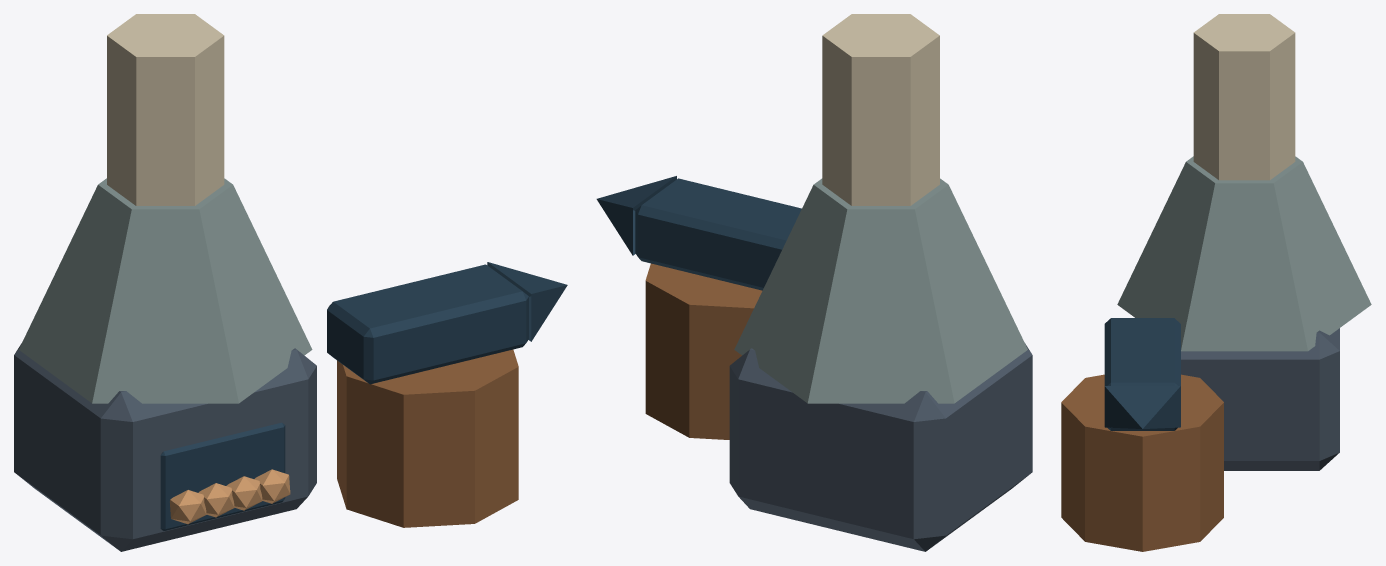
The model's file is forge.glb.
The picture shows the model from 3 angles, left to right: view 1: azimuth 30°, elevation 25°; view 2: azimuth 150°, elevation 25°; view 3: azimuth 270°, elevation 25°; orthographic projection. The views are drawn at different scales.
Visible parts, largest first — view 1: hearth; view 2: hearth; view 3: hearth.
Part boxes in pixels (x1,y1,x2,y2): hearth: (14,14,567,551); hearth: (596,14,1032,551); hearth: (1061,14,1371,551).
Bounding box in the file's own units: 1.78 × 1.74 × 1.22.
